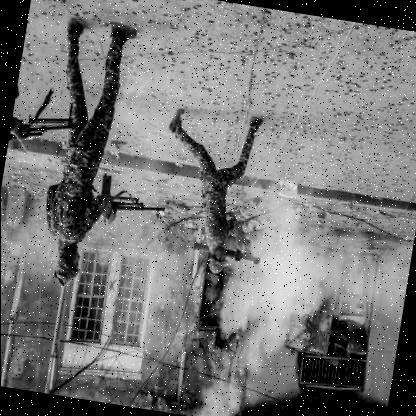rifle: (82, 166, 172, 225), (8, 86, 82, 155), (191, 229, 265, 269)
